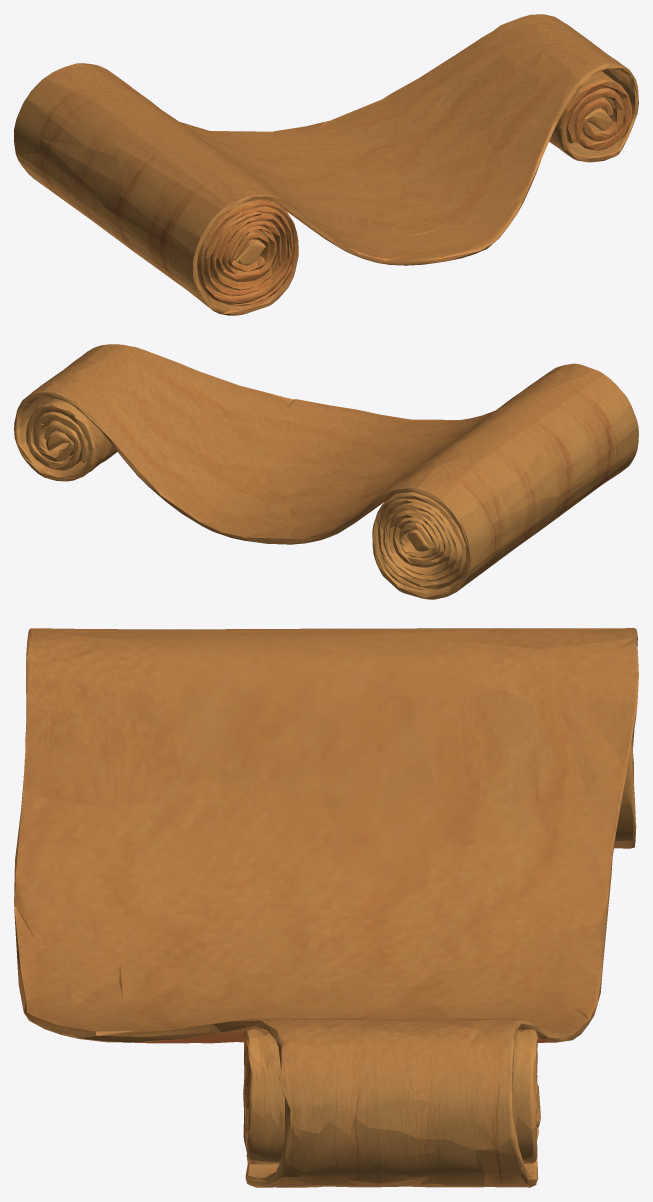
The model's file is ITM_SILK_CLOTH_001.glb.
3 views of the same model, one above another, from view 1: azimuth 30°, elevation 25°; view 2: azimuth 150°, elevation 25°; view 3: azimuth 270°, elevation 25° (orthographic). The views are drawn at different scales.
Bounding box in the file's own units: 1.9 × 0.4071 × 1.16.
Materials: 1 (1 with a texture image).
